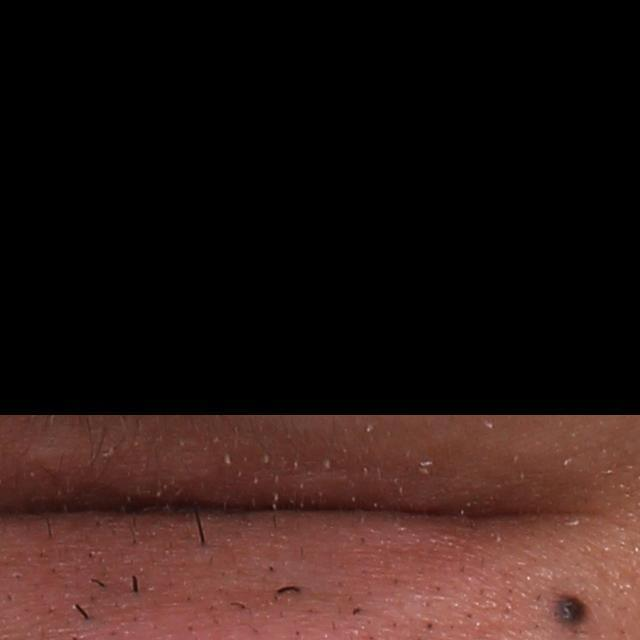nevus: (551, 589, 596, 629)
